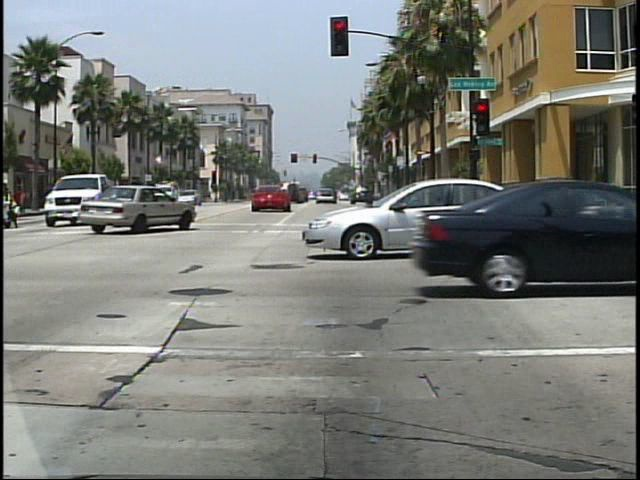person: (1, 175, 24, 230)
